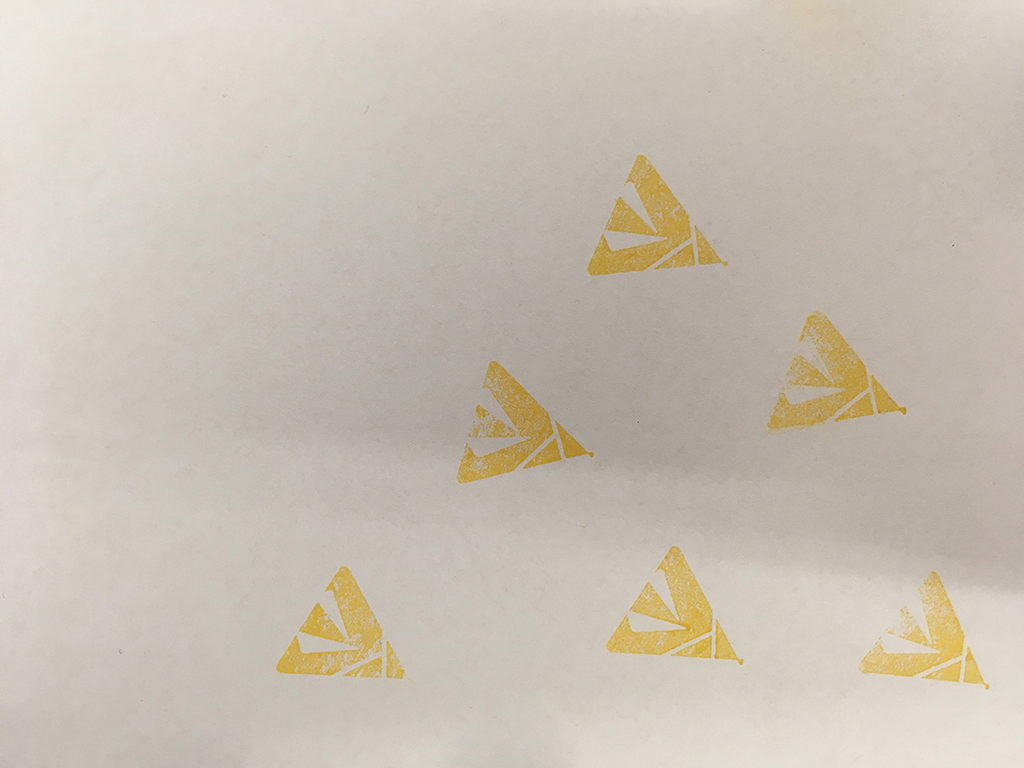tent: (259, 556, 428, 692), (584, 147, 741, 280), (848, 563, 1000, 697), (452, 352, 600, 489), (601, 539, 753, 672), (763, 305, 912, 436)
